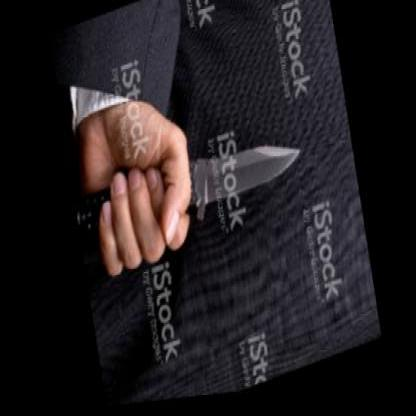knife: (106, 49, 311, 278)
